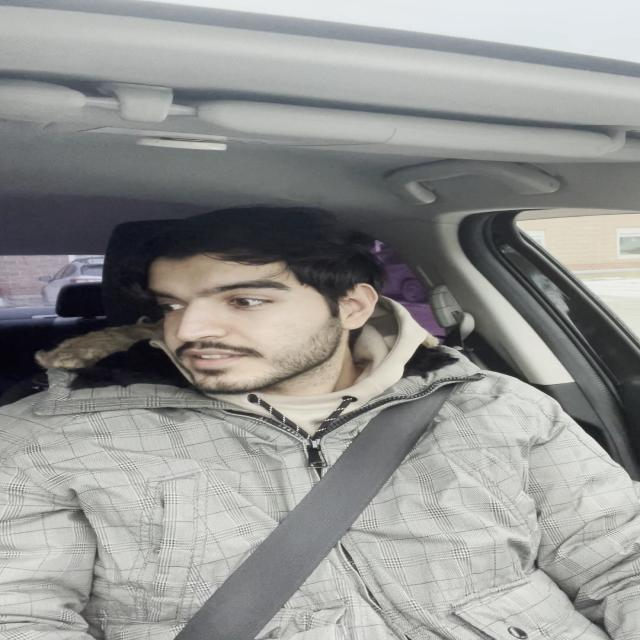drinking: (65, 396, 491, 640)
inattentive: (127, 215, 421, 407)
